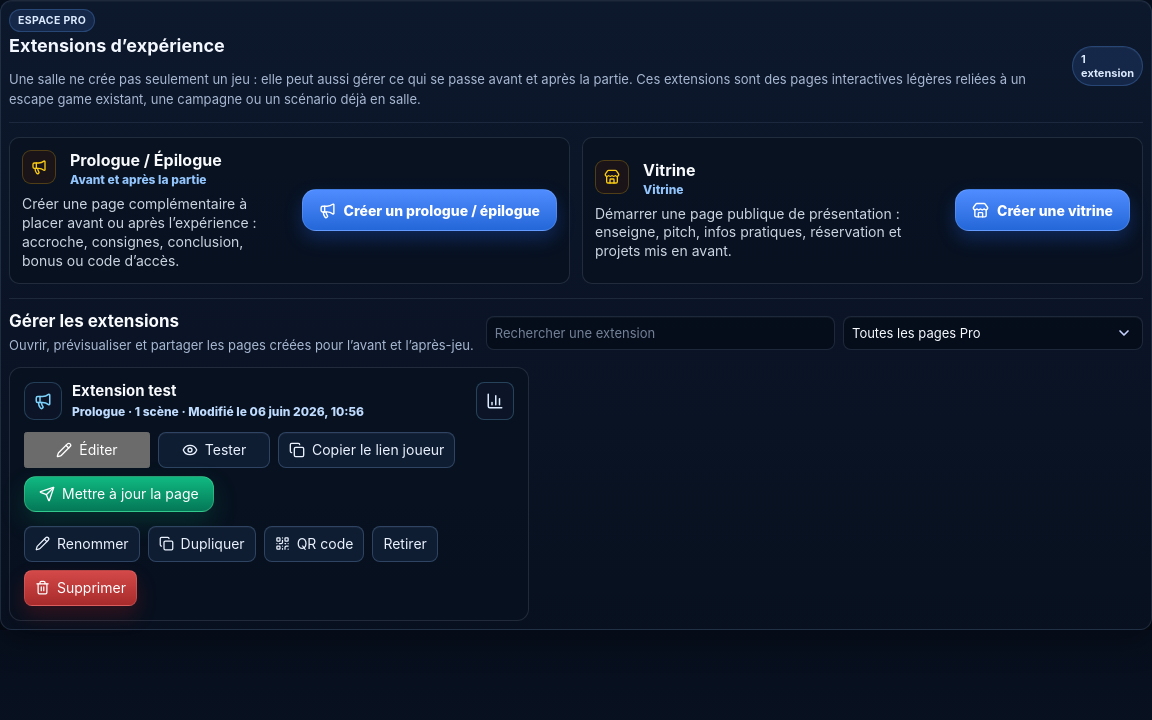
ProfileProPanel › ouvre les statistiques d une extension pro avec filtres et detail par zone
What coordinates should you click on to do the following:
click the button named "Statistiques de Extension test"
I would click on:
 (495, 401)
Its box is [476,382,514,420].
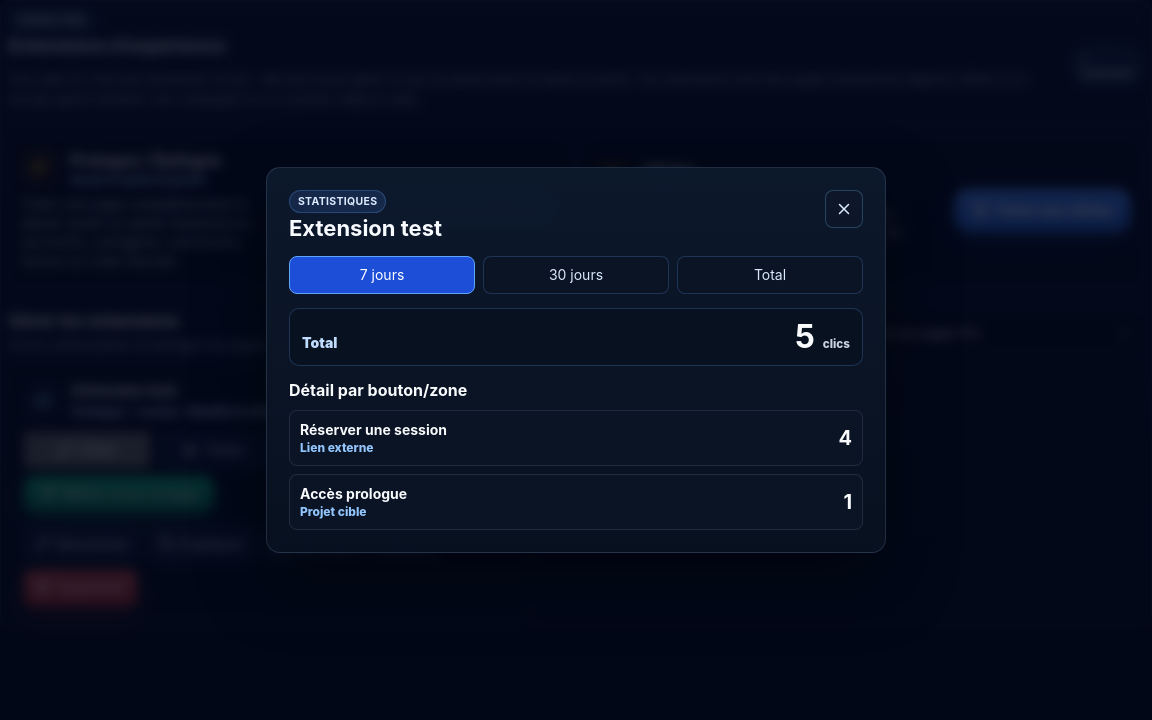
Result: the dialog "Extension test" is shown at [266,167,886,553]
Result: the text "Réserver une session" is shown at [300,421,447,438]
Result: the text "Accès prologue" is shown at [300,485,407,502]
What coordinates should you click on to do the following:
click the button "30 jours"
I would click on:
 (576, 275)
Its box is [483,256,669,294].
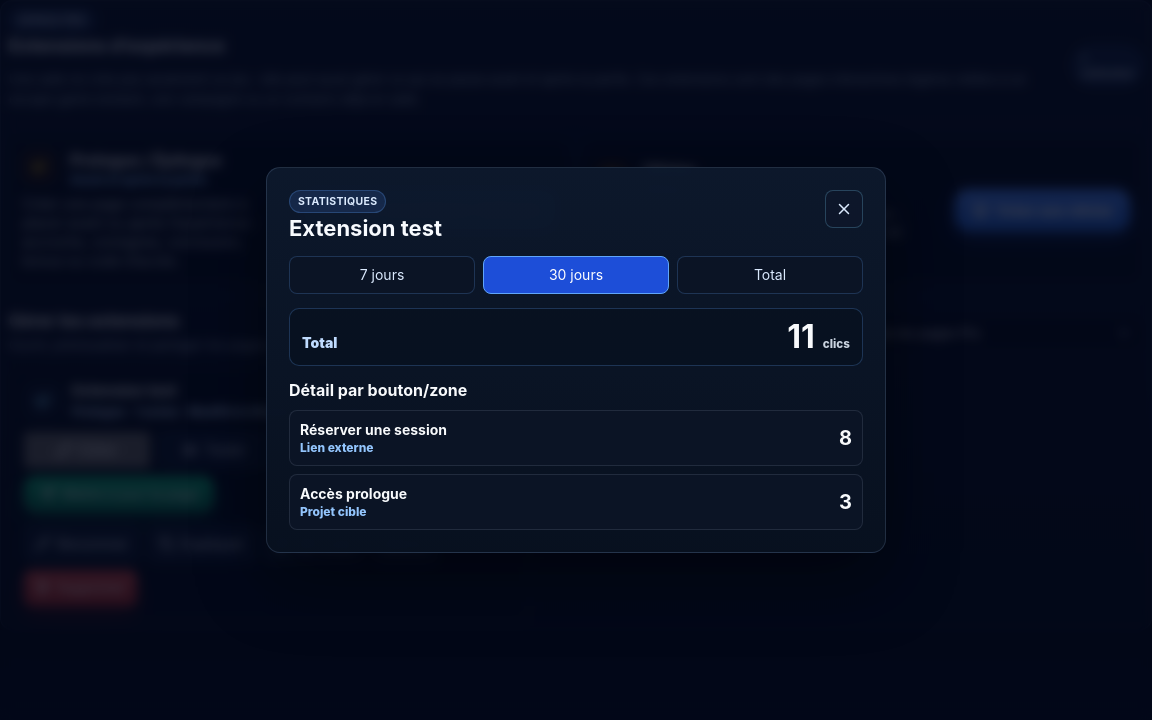
Result: the text "11" is shown at [787,321,815,353]
What coordinates should you click on to do the following:
click the button "Total"
I would click on:
 (770, 275)
Its box is [677,256,863,294].
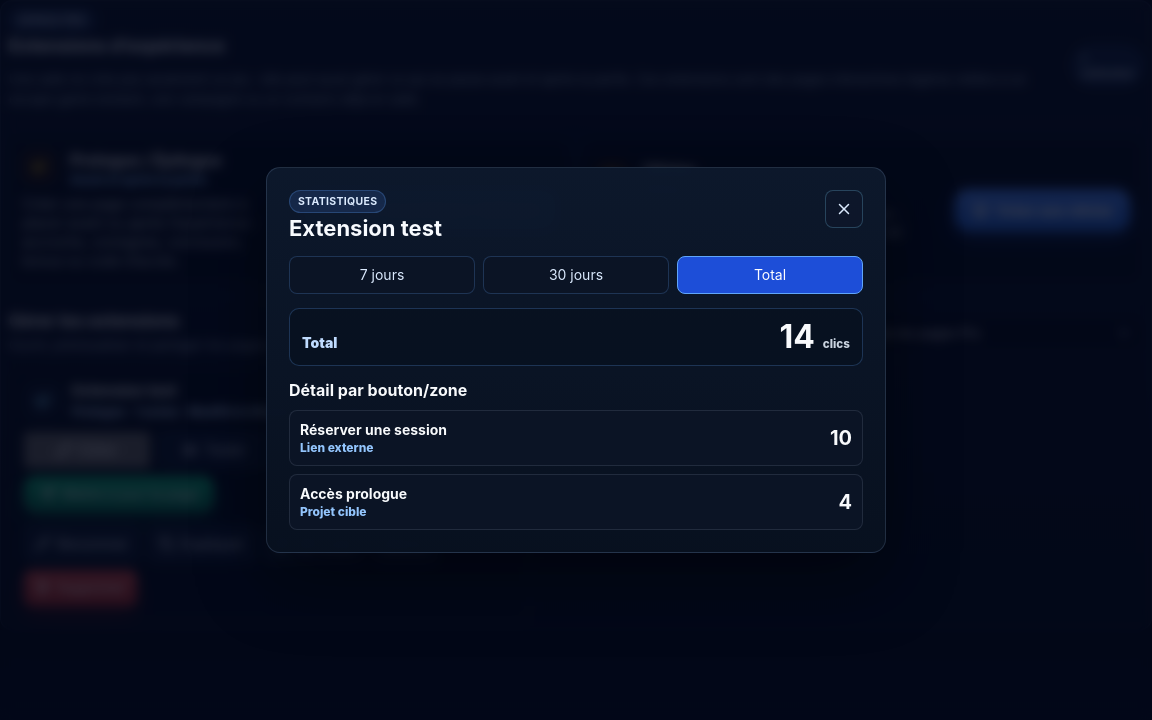
Result: the text "14" is shown at [779,321,815,353]
